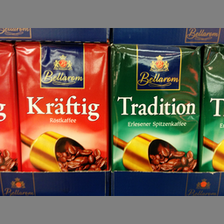coffee: (15, 41, 111, 171), (110, 43, 201, 170)
